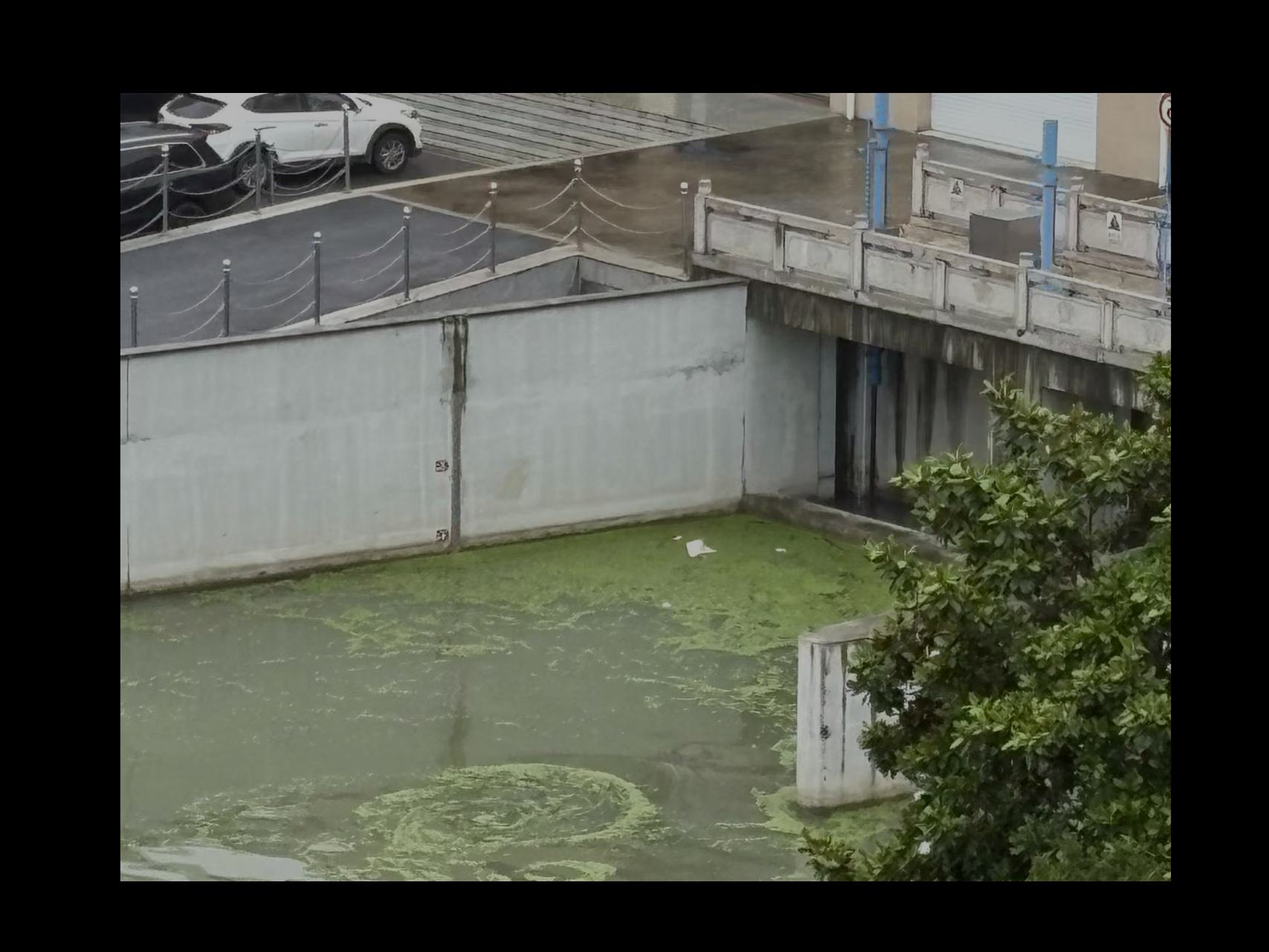Other: (314, 766, 642, 881), (512, 523, 663, 594), (676, 568, 817, 643), (372, 556, 505, 607)
Plastic wastes: (685, 535, 713, 558), (773, 541, 791, 552), (668, 530, 682, 541), (661, 601, 669, 608)
